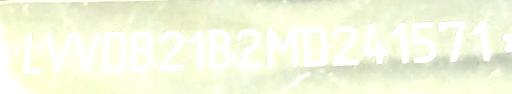letter: (262, 24, 300, 70), (436, 17, 472, 64), (328, 23, 364, 70), (154, 27, 188, 75), (231, 25, 265, 72), (408, 17, 440, 66), (298, 22, 330, 70), (99, 28, 131, 75), (206, 26, 236, 74), (126, 29, 158, 74), (386, 19, 416, 66), (360, 21, 390, 68), (44, 27, 74, 74), (73, 29, 101, 76), (18, 31, 46, 75), (185, 26, 209, 73), (468, 17, 492, 62)
